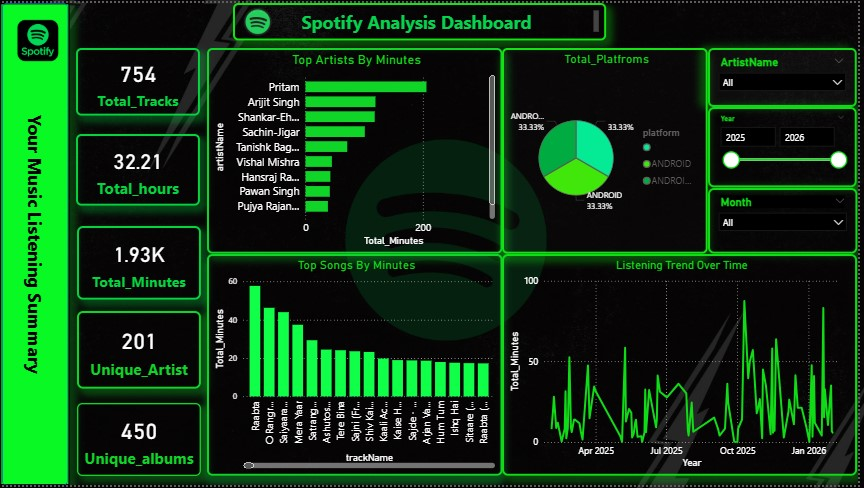

What the dashboard file says about the page in this screenshot:
{"tool":"powerbi","page":{"name":"Page 1","canvas":[1280,720],"ordinal":0},"visuals":[{"type":"card","fields":{"Values":["StreamingHistory_music_0.Total_Tracks"]},"box":[113.1,67.6,185.1,101.4],"z":0},{"type":"card","fields":{"Values":["StreamingHistory_music_0.Total_hours"]},"box":[113.1,195.4,185.1,107.3],"z":1000},{"type":"card","fields":{"Values":["SearchQueries.Total_Minutes"]},"box":[114.6,333.6,185.1,110.2],"z":2000},{"type":"textbox","box":[348.2,0,556.9,55.8],"z":3000},{"type":"textbox","box":[0,0,104.3,720],"z":4000},{"type":"image","box":[0,0,113,111.7],"z":5000},{"type":"card","fields":{"Values":["SearchQueries.Unique_albums"]},"box":[114.6,596.6,185.1,108.7],"z":6000},{"type":"card","fields":{"Values":["SearchQueries.Unique_Artist"]},"box":[114.6,459.9,185.1,116.1],"z":7000},{"type":"shape","box":[2.9,0,98.4,720],"z":8000},{"type":"clusteredBarChart","title":"Top Artists By Minutes","fields":{"Y":["SearchQueries.Total_Minutes"],"Category":["StreamingHistory_music_0.artistName"]},"box":[308.6,67.6,440.8,307.1],"z":9000},{"type":"clusteredColumnChart","title":"Top Songs By Minutes","fields":{"Y":["SearchQueries.Total_Minutes"],"Category":["StreamingHistory_music_0.trackName"]},"box":[308.6,374.7,440.8,330.6],"z":10000},{"type":"image","box":[348.2,0,73.5,55.8],"z":11000},{"type":"pieChart","title":"Total_Platfroms ","fields":{"Y":["SearchQueries.Total_Platfroms"],"Series":["SearchQueries.platform"]},"box":[749.4,67.6,307.1,307.1],"z":12000},{"type":"lineChart","title":"Listening Trend Over Time","fields":{"Y":["SearchQueries.Total_Minutes"],"Category":["StreamingHistory_music_0.endTime.Variation.Date Hierarchy.Year","StreamingHistory_music_0.endTime.Variation.Date Hierarchy.Quarter","StreamingHistory_music_0.endTime.Variation.Date Hierarchy.Month","StreamingHistory_music_0.endTime.Variation.Date Hierarchy.Day"]},"box":[749.4,374.7,530.4,330.6],"z":13000},{"type":"slicer","fields":{"Values":["StreamingHistory_music_0.artistName"]},"box":[1056.5,67.6,221.9,88.2],"z":14000},{"type":"slicer","fields":{"Values":["StreamingHistory_music_0.endTime.Variation.Date Hierarchy.Year"]},"box":[1056.5,155.8,221.9,120.5],"z":15000},{"type":"slicer","fields":{"Values":["StreamingHistory_music_0.endTime.Variation.Date Hierarchy.Month"]},"box":[1056.5,276.2,223.3,98.4],"z":16000}]}

Visuals, with their boxes in screenshot pixels (x1, y1, x2, y2), scaled from the page's 1280x720 canvas onto the 864x488 screenshot:
card - StreamingHistory_music_0.Total_Tracks: locate(76, 46, 201, 115)
card - StreamingHistory_music_0.Total_hours: locate(76, 132, 201, 205)
card - SearchQueries.Total_Minutes: locate(77, 226, 202, 301)
textbox: locate(235, 0, 611, 38)
textbox: locate(0, 0, 70, 487)
image: locate(0, 0, 76, 76)
card - SearchQueries.Unique_albums: locate(77, 404, 202, 478)
card - SearchQueries.Unique_Artist: locate(77, 312, 202, 390)
shape: locate(2, 0, 68, 487)
"Top Artists By Minutes" clusteredBarChart: locate(208, 46, 506, 254)
"Top Songs By Minutes" clusteredColumnChart: locate(208, 254, 506, 478)
image: locate(235, 0, 285, 38)
"Total_Platfroms " pieChart: locate(506, 46, 713, 254)
"Listening Trend Over Time" lineChart: locate(506, 254, 863, 478)
slicer - StreamingHistory_music_0.artistName: locate(713, 46, 863, 106)
slicer - StreamingHistory_music_0.endTime.Variation.Date Hierarchy.Year: locate(713, 106, 863, 187)
slicer - StreamingHistory_music_0.endTime.Variation.Date Hierarchy.Month: locate(713, 187, 863, 254)
